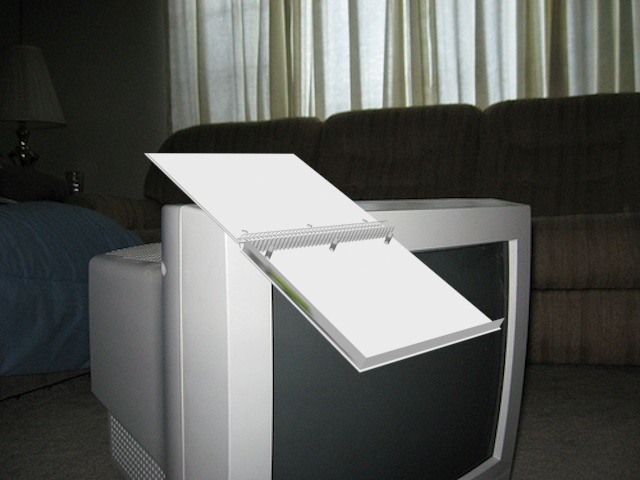paper_notebook: (145, 153, 512, 376)
